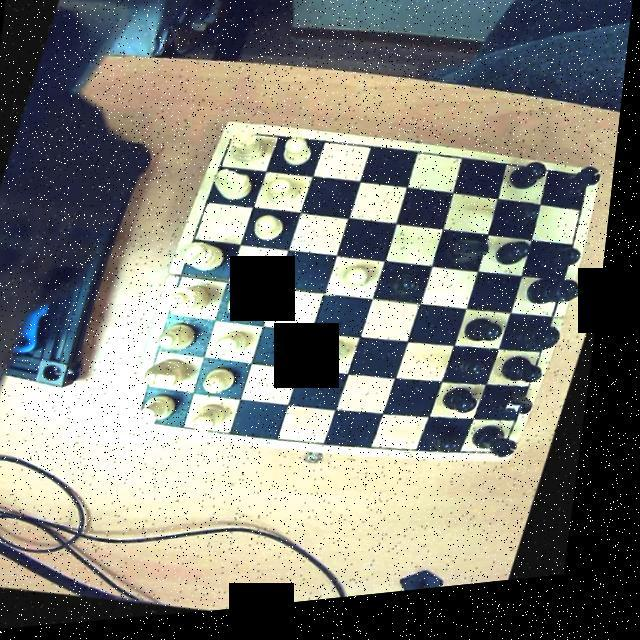chess-table-corners: (138, 406, 168, 434), (575, 178, 607, 201), (224, 126, 252, 152), (503, 448, 529, 472)
